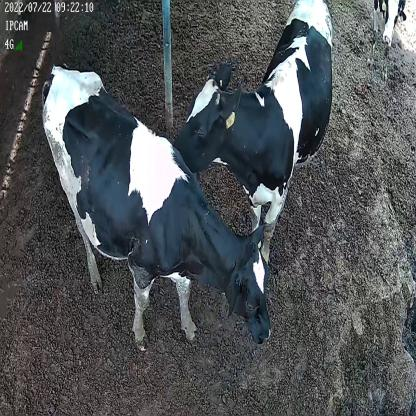cow: (40, 56, 274, 355), (173, 3, 335, 262)
